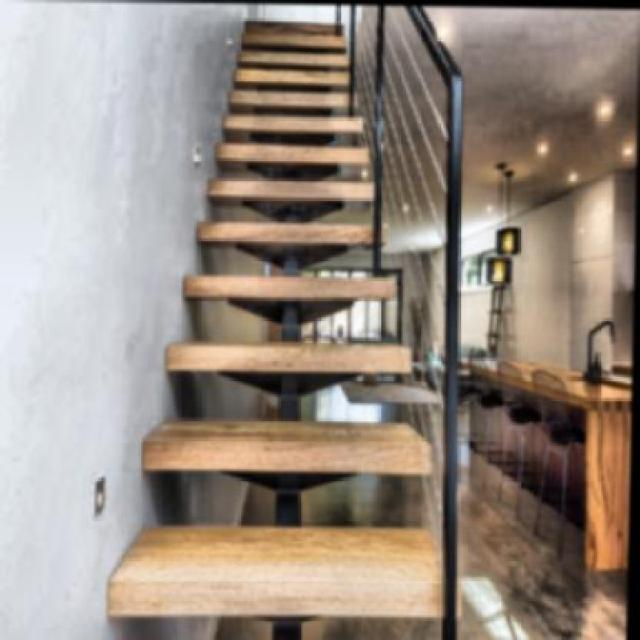stair: (115, 8, 457, 624)
